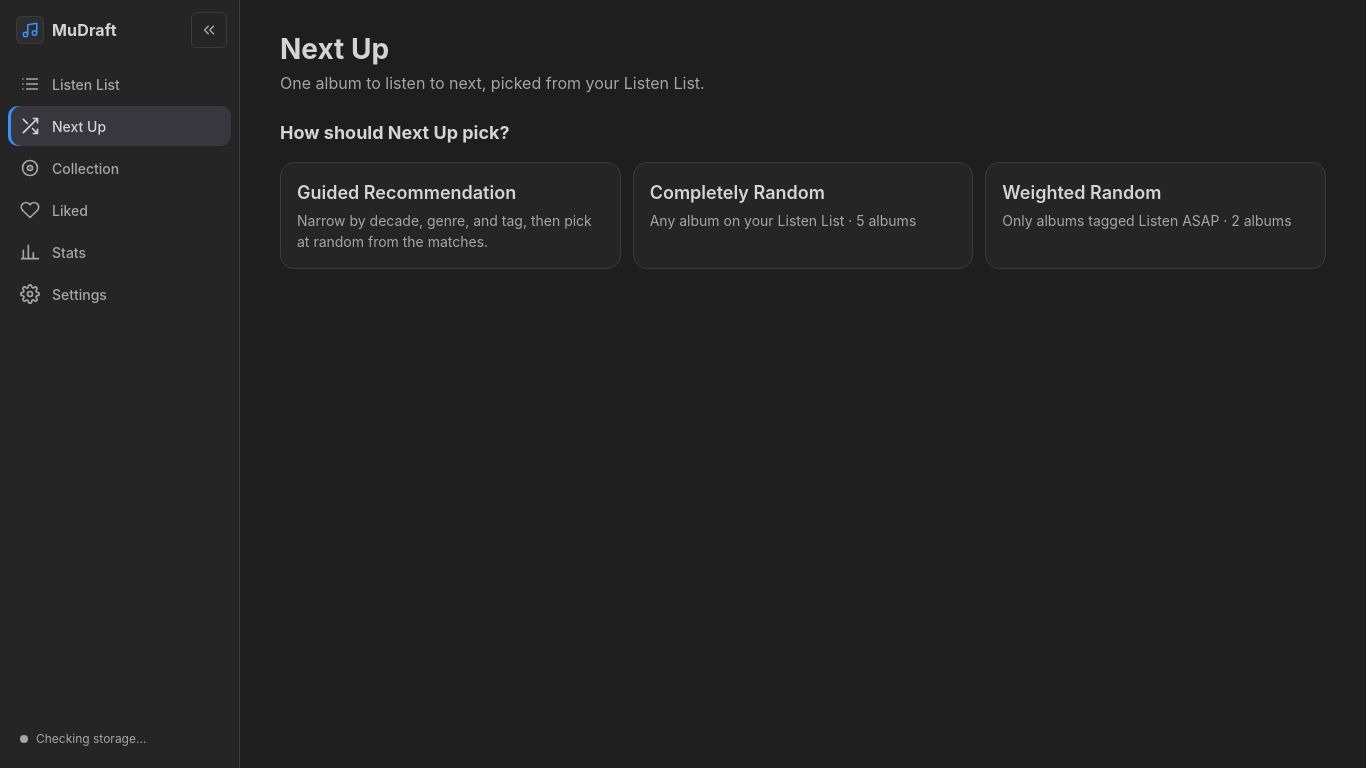
Test case: Next Up page › offers the three methods; random modes pick immediately
The width and height of the screenshot is (1366, 768).
expect the button "Guided Recommendation" is shown: met, box [280,162,621,269]
expect the button "Weighted Random" is shown: met, box [985,162,1326,269]
Click the button "Completely Random".
click(803, 216)  # box [633,162,973,269]
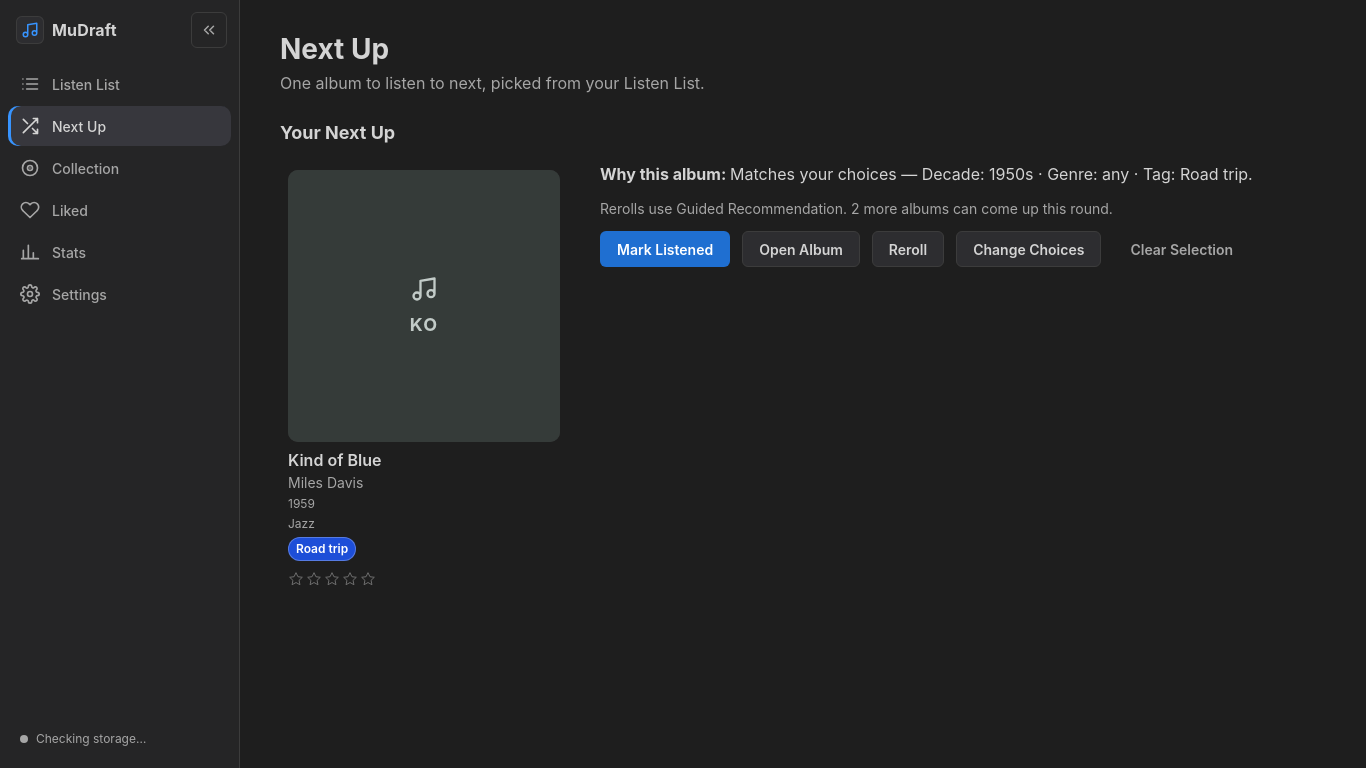
expect the heading "Your Next Up" is shown: met, box [280,122,395,143]
expect the link "Kind of Blue" is shown: met, box [288,450,381,470]
expect the text "Decade: 1950s · Genre: any · Tag: Road trip" is shown: met, box [730,164,1253,184]
